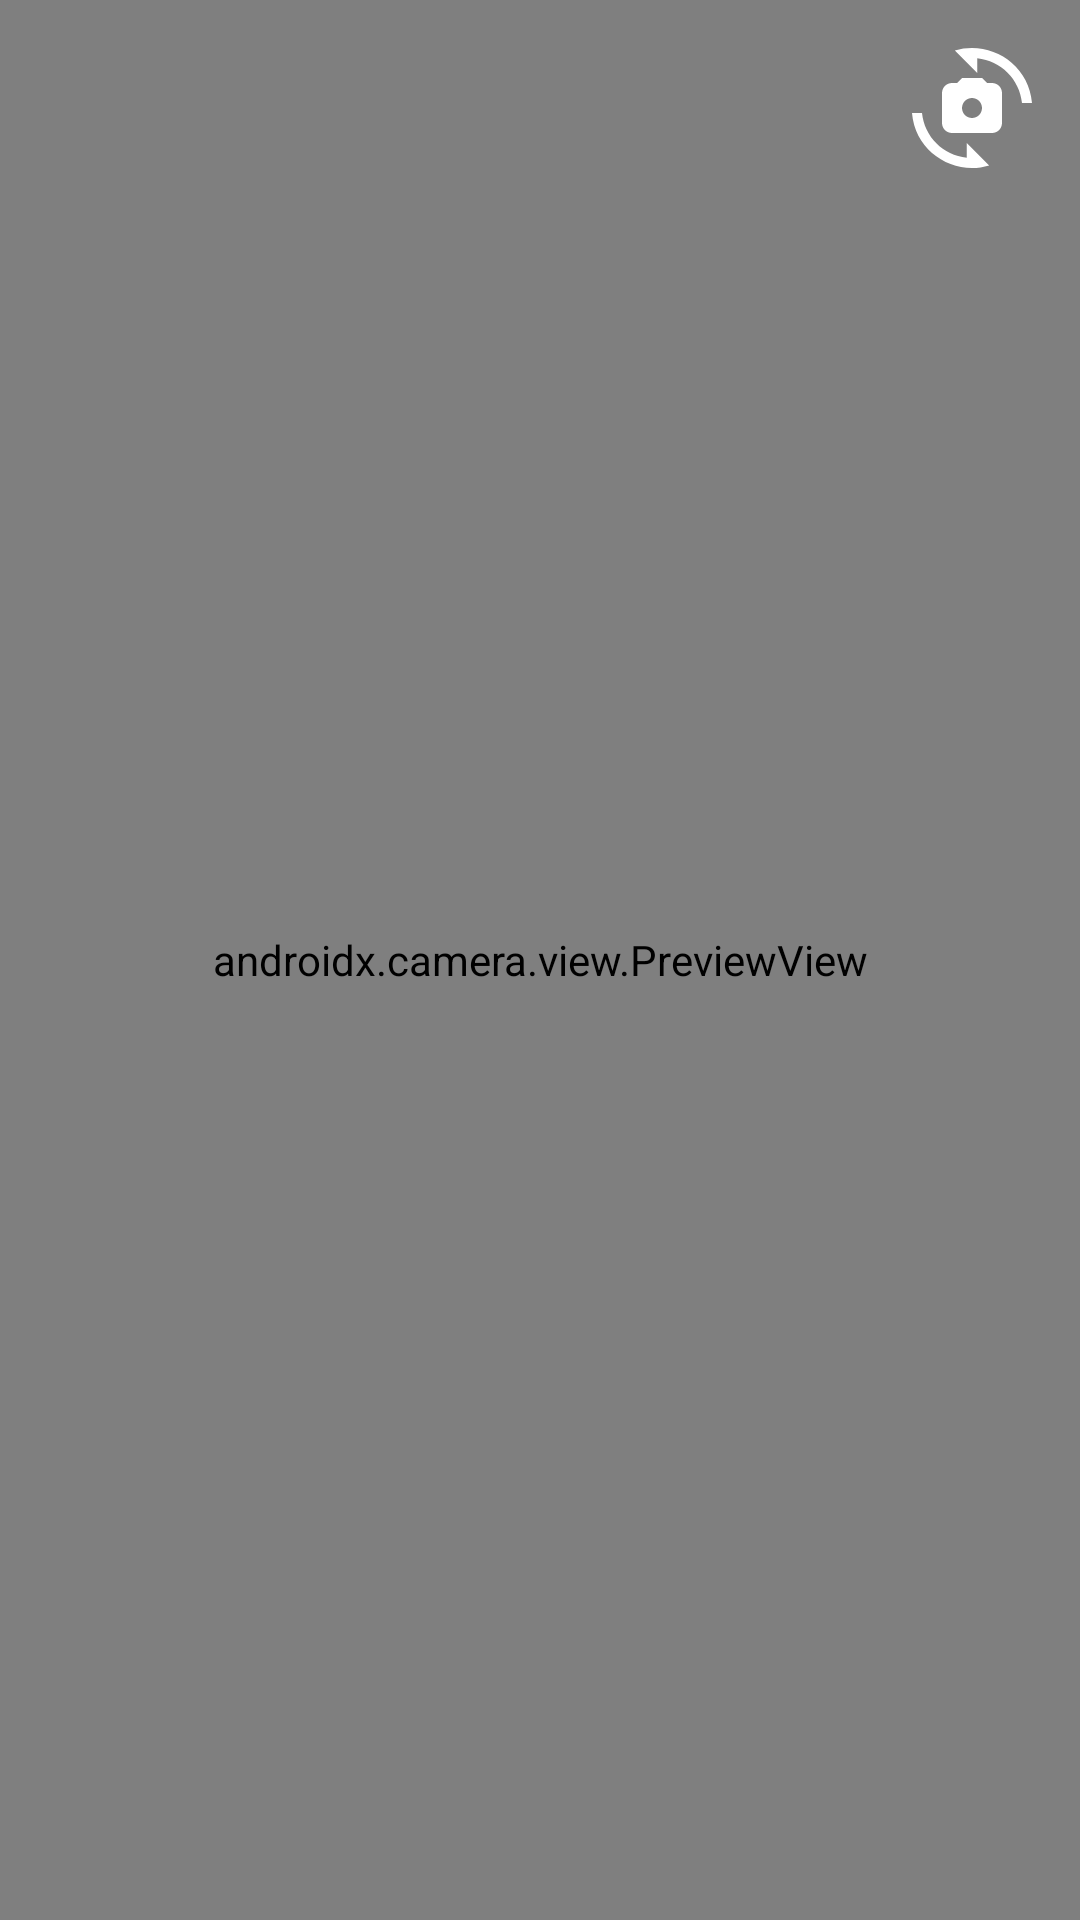

Locate icon controls on the screen. Image size 1080 x 1920, boxes as [left=x1, top=y1, right=x2, bottom=y2].
switch camera: [left=912, top=48, right=1032, bottom=168]
